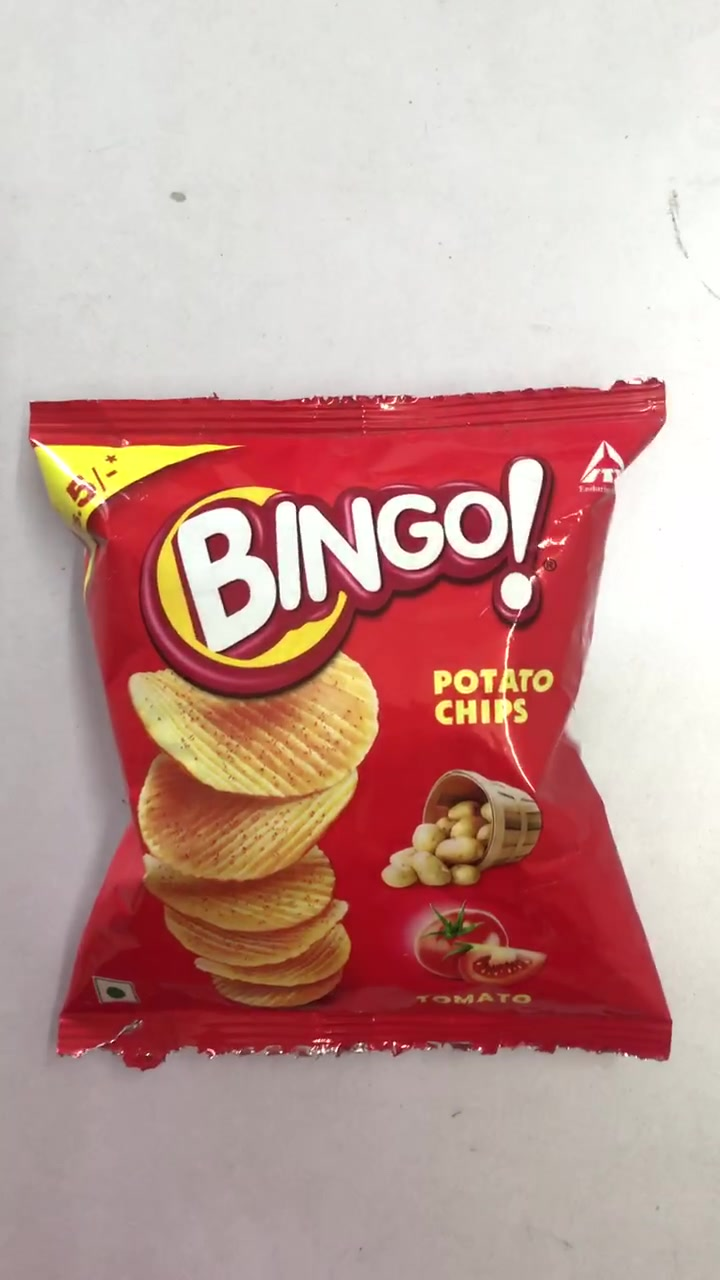Bingo: (34, 398, 674, 1062)
